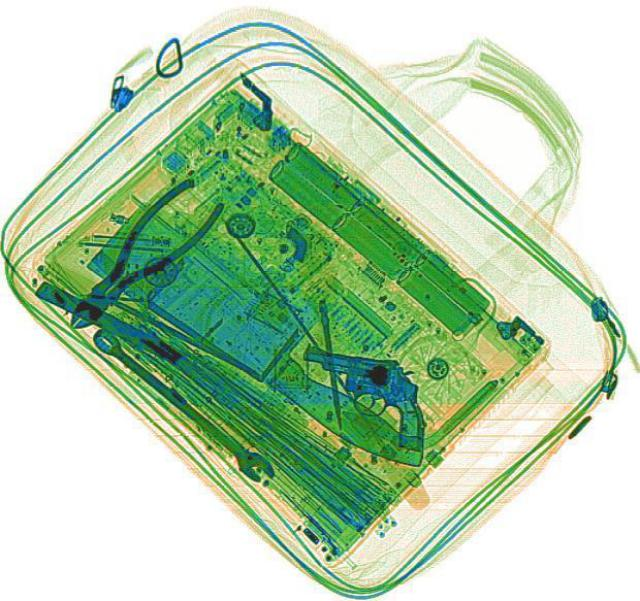Gun: (288, 344, 436, 449)
Knife: (82, 189, 470, 482)
Pliers: (44, 172, 230, 339)
Wrench: (84, 320, 278, 487)
